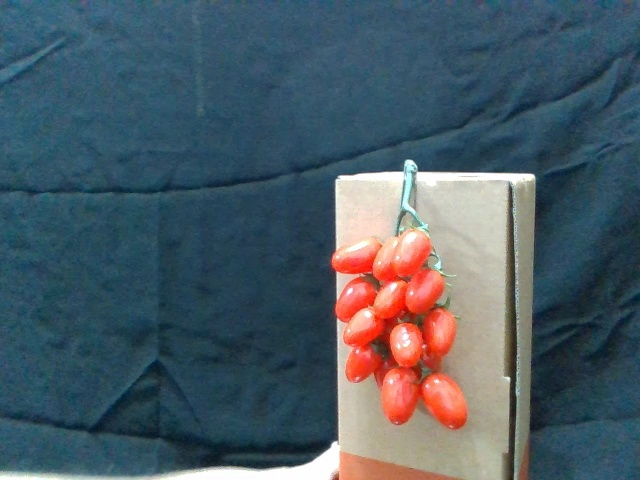tomato: (423, 372, 468, 430), (382, 369, 420, 426), (407, 267, 446, 316), (423, 305, 457, 361), (390, 320, 427, 371), (332, 239, 384, 274), (333, 279, 377, 320), (344, 307, 387, 348), (343, 344, 382, 387), (395, 231, 431, 275), (374, 281, 410, 321)
